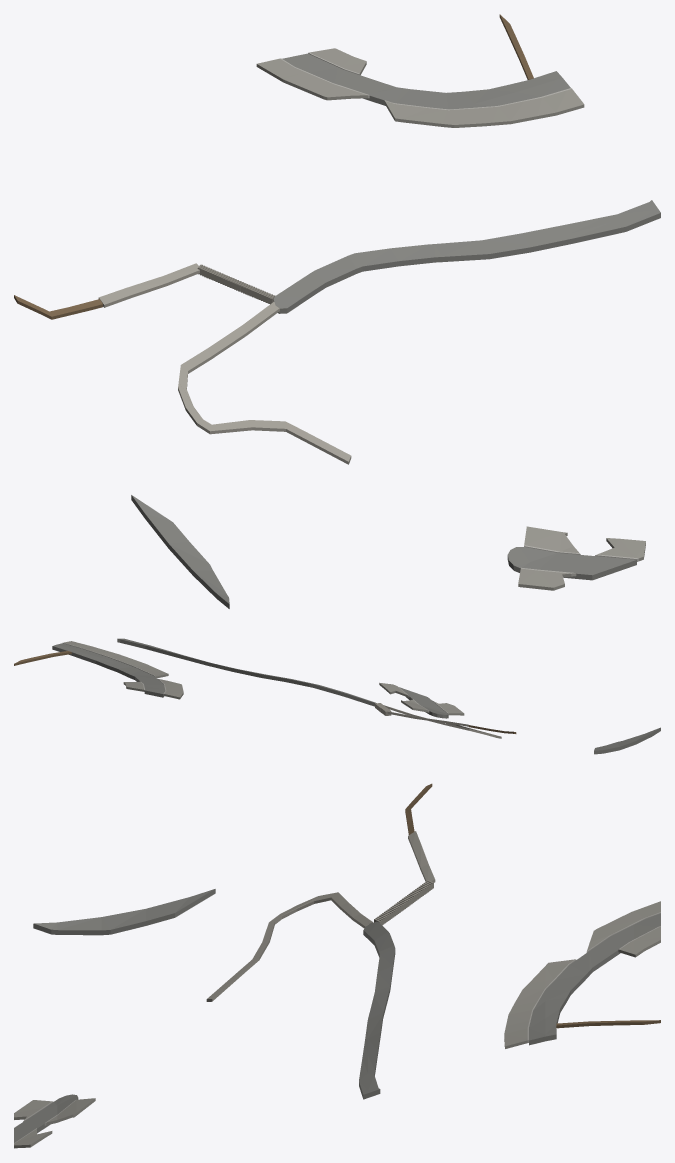
3 views of the same model, one above another, from view 1: azimuth 30°, elevation 25°; view 2: azimuth 150°, elevation 25°; view 3: azimuth 270°, elevation 25° (orthographic). The views are drawn at different scales.
Bounding box in the file's own units: 147 × 59.36 × 146.
